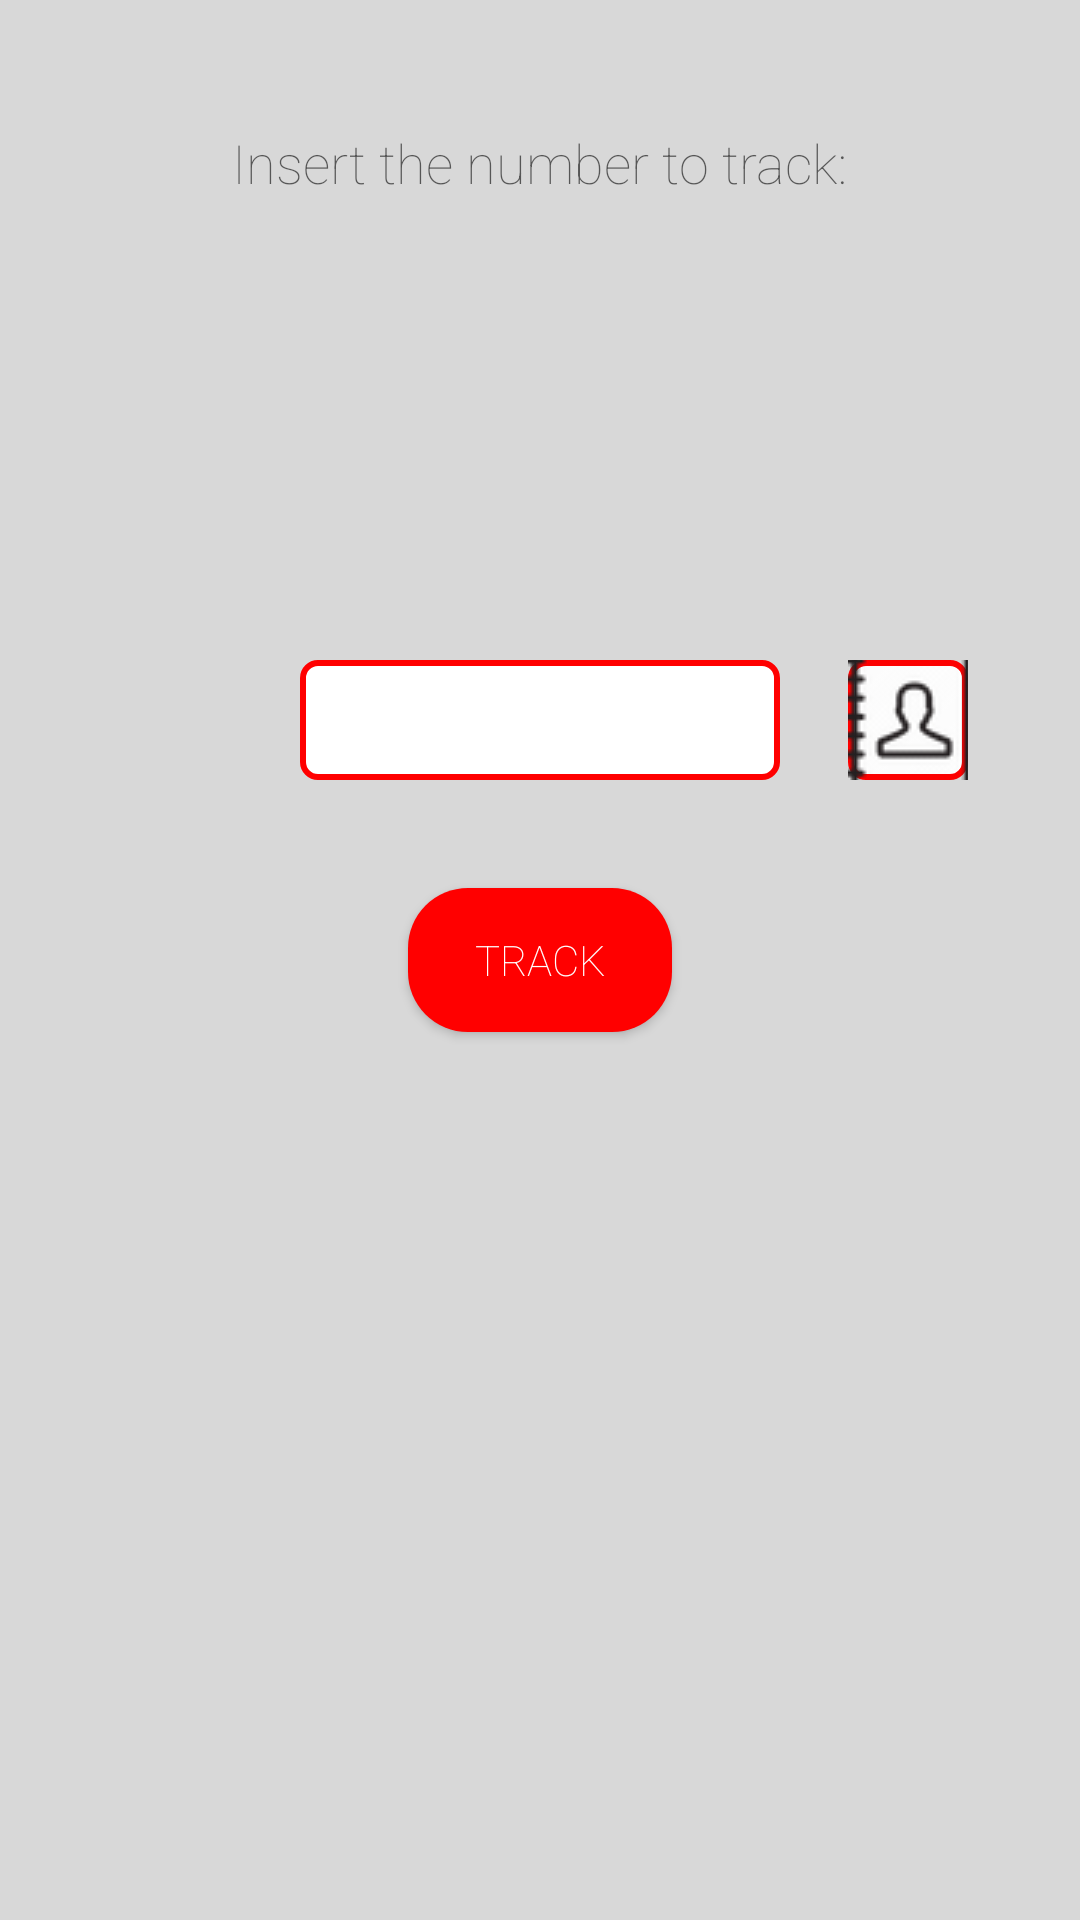

Point at icon controls on the screen. Image size 1080*1920, points as point (x, y).
rubrica: point (908, 720)
